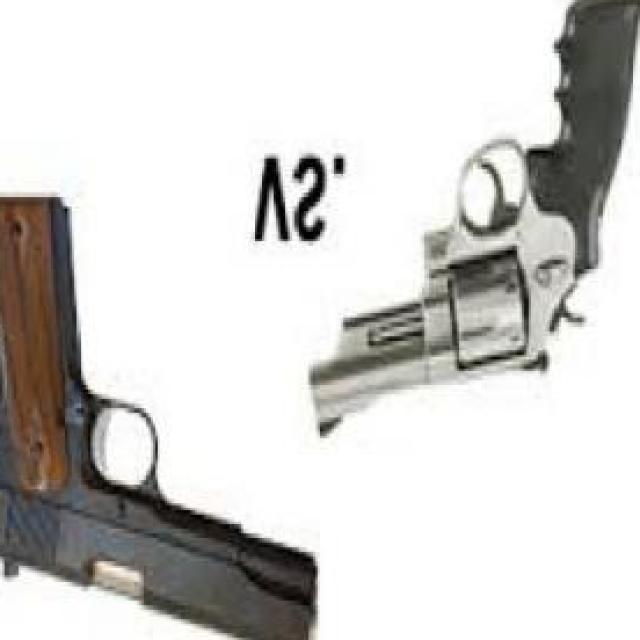pistol: (306, 0, 638, 452), (0, 197, 320, 640)
